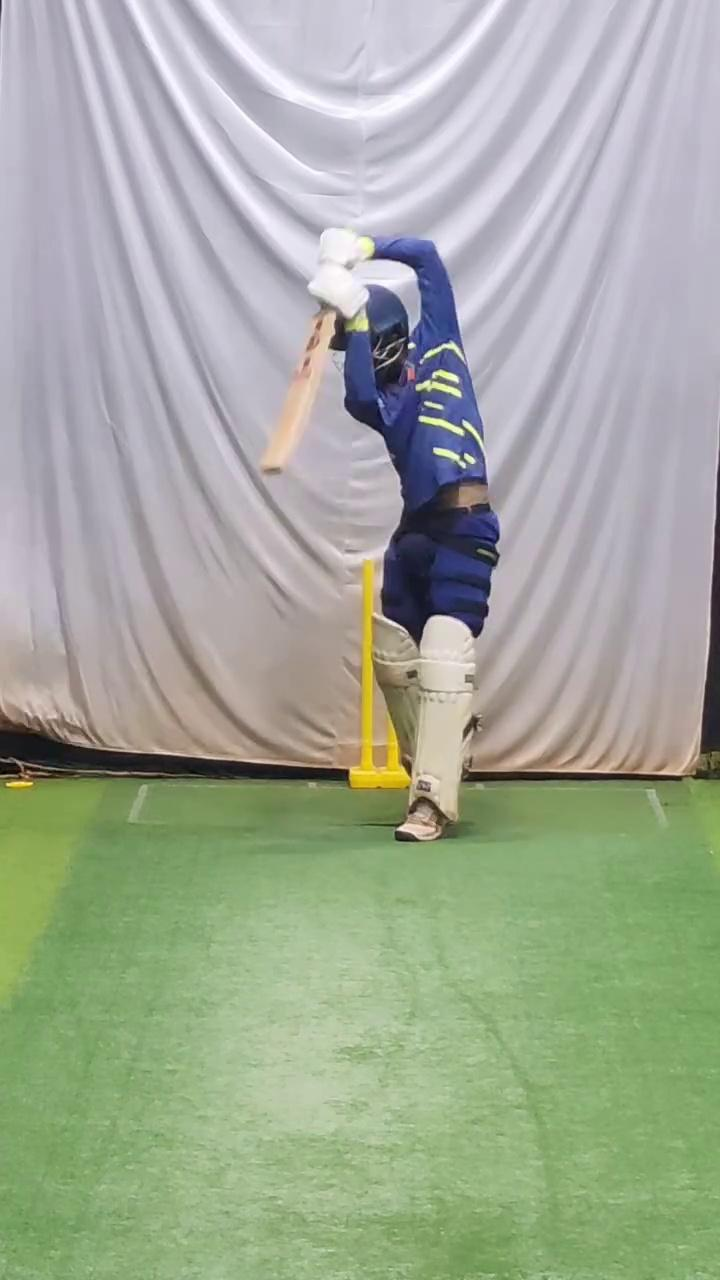bat: (257, 304, 337, 485)
